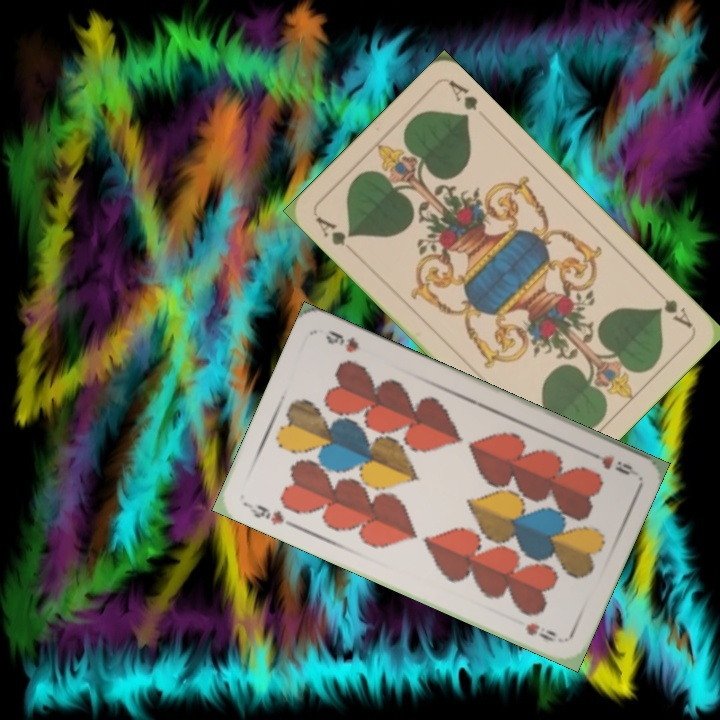GA: (654, 294, 696, 331), (312, 212, 355, 248)
H9: (581, 445, 638, 478), (241, 498, 297, 530)
